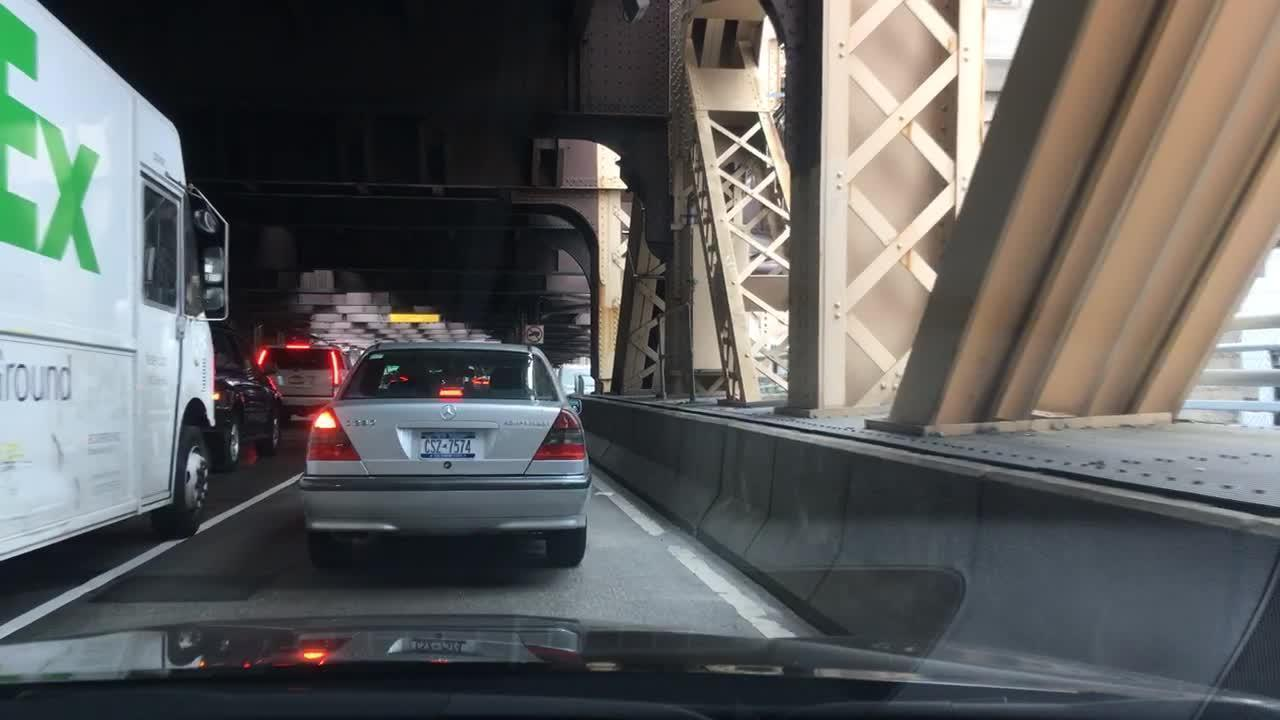Mercedes: (435, 400, 469, 429)
